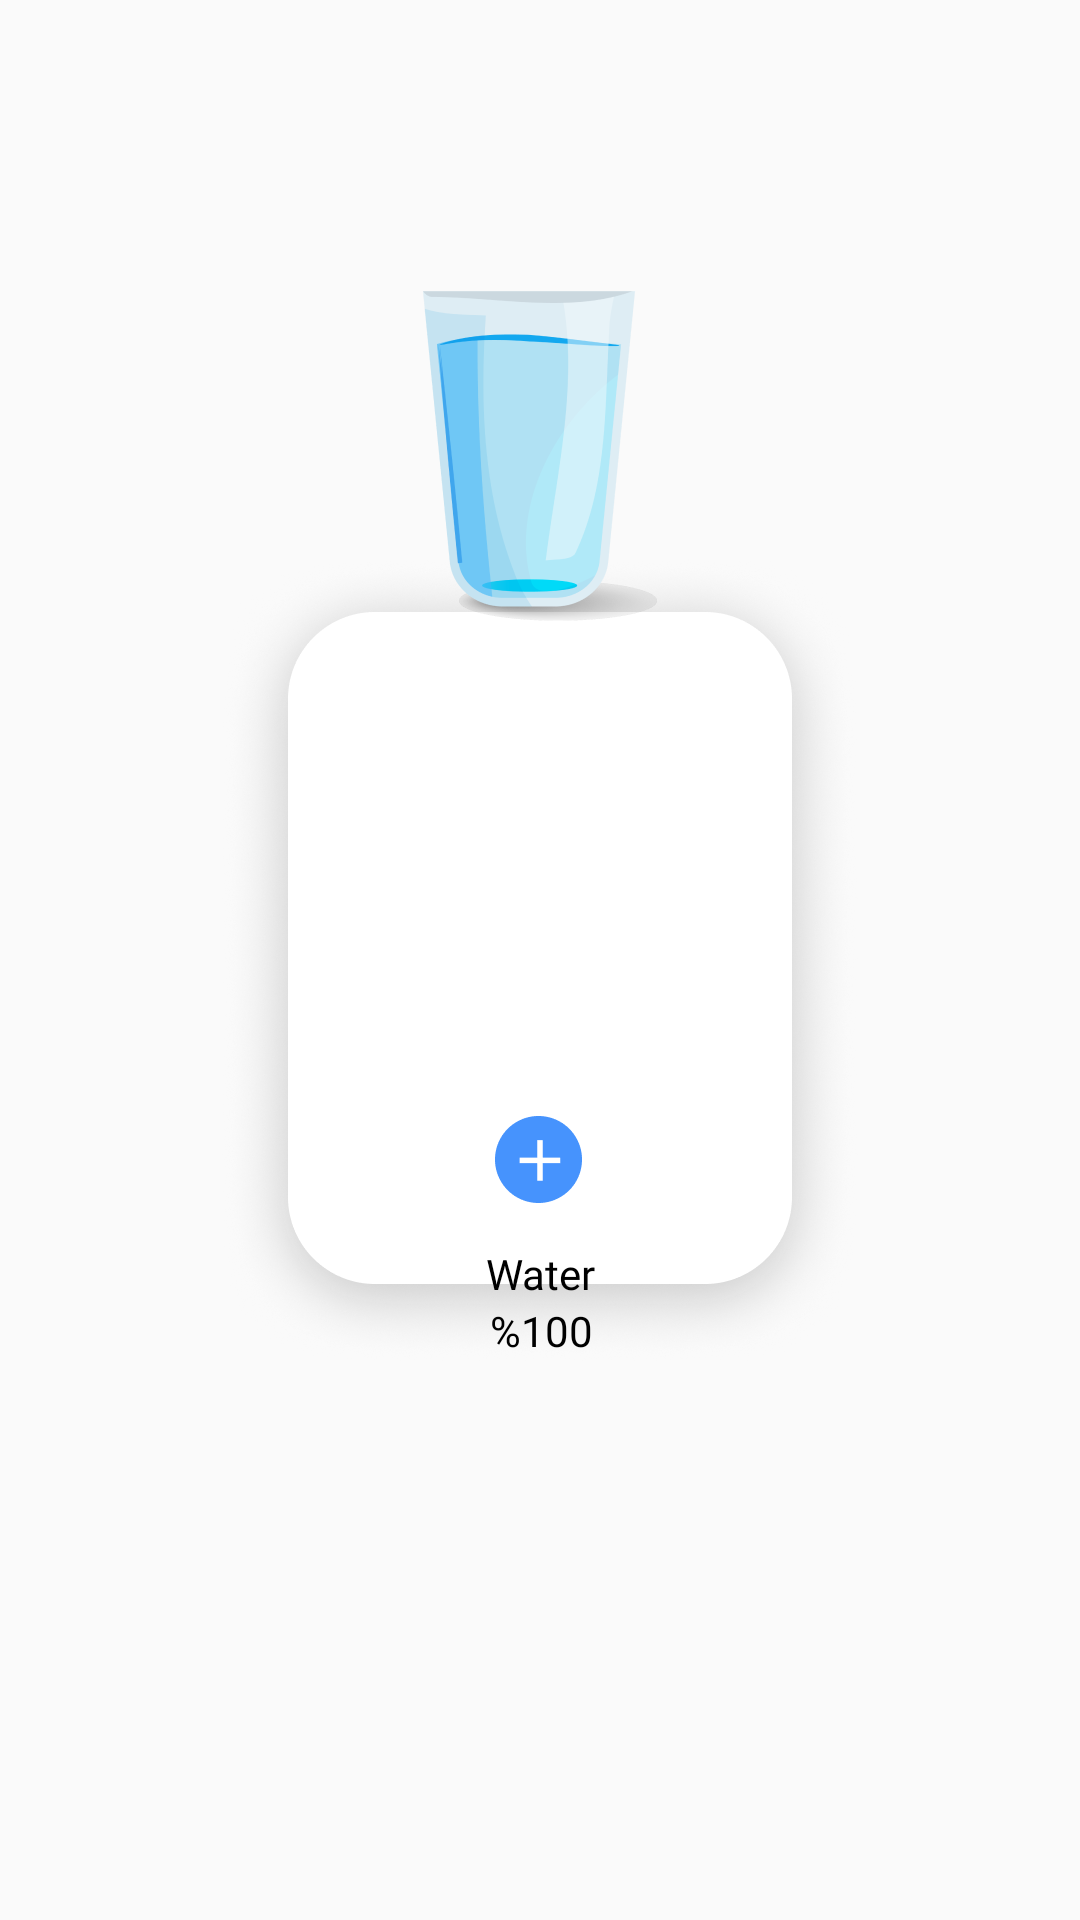

Screen size 1080w x 1920h. Icon name, then its box in pixels as bbox=[x1, y1, x2, y2]:
add: bbox=[495, 1116, 582, 1203]
homewater: bbox=[423, 291, 657, 617]
